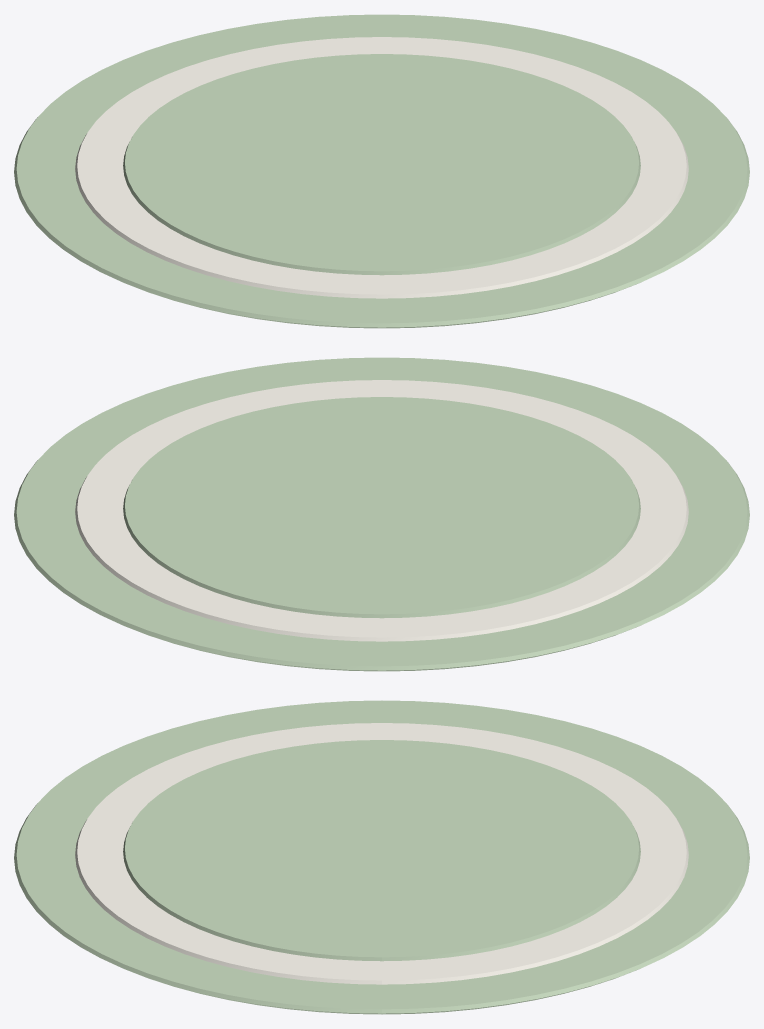
The model's file is jelly-friends-playroom-rug-round-c41ed406__27633.glb.
3 renders of one model, top to bottom at view 1: azimuth 30°, elevation 25°; view 2: azimuth 150°, elevation 25°; view 3: azimuth 270°, elevation 25°, orthographic.
Parts seen in each view (by area): view 1: rug-round; view 2: rug-round; view 3: rug-round.
Part boxes in pixels (left/top/right/bottom): rug-round: left=14, top=14, right=749, bottom=328; rug-round: left=14, top=357, right=749, bottom=671; rug-round: left=14, top=700, right=749, bottom=1014.
Bounding box in the file's own units: 1.7 × 0.032 × 1.7.
